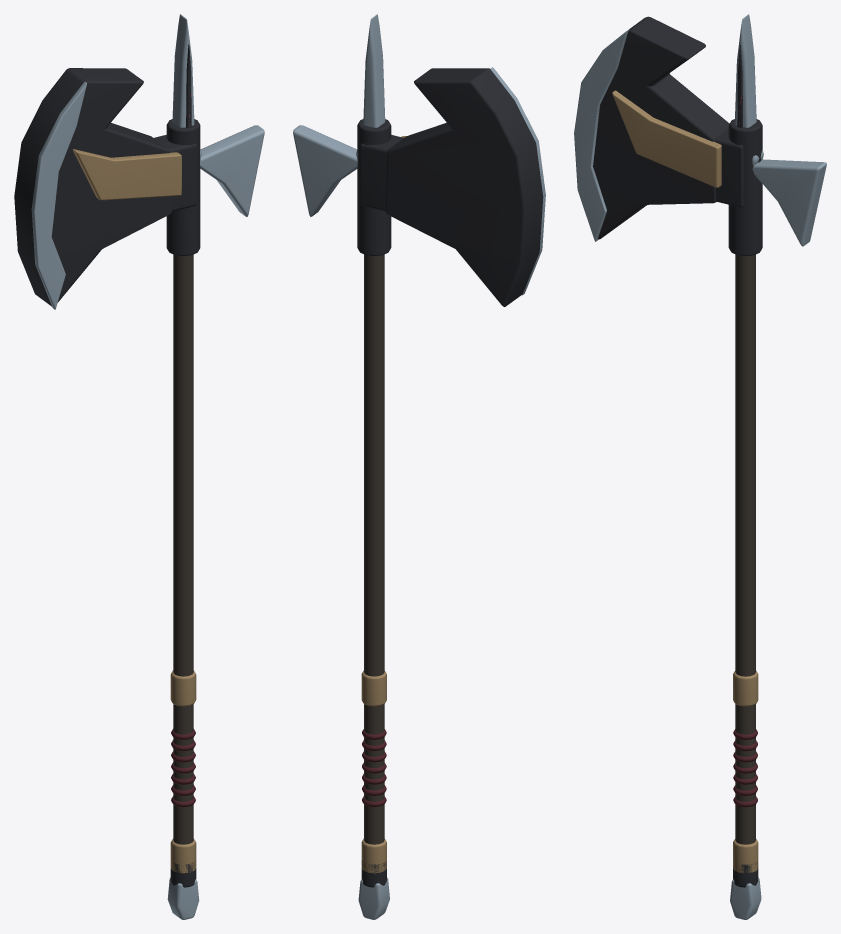
The model's file is execution-standard.glb.
3 renders of one model, left to right at view 1: azimuth 30°, elevation 25°; view 2: azimuth 150°, elevation 25°; view 3: azimuth 330°, elevation 25°, orthographic.
Visible parts, largest first — view 1: Halberd broken crescent, Walnut haft.003, Halberd honed crescent, Halberd ridge, Rear hook, Halberd armored socket, Spire forged blade.007, Halberd integral root web, Halberd octagonal heel, Brass ferrule.010, Brass ferrule.009; view 2: Halberd broken crescent, Walnut haft.003, Rear hook, Halberd armored socket, Spire forged blade.007, Halberd integral root web, Halberd octagonal heel, Halberd honed crescent, Brass ferrule.010, Brass ferrule.009; view 3: Halberd broken crescent, Walnut haft.003, Halberd ridge, Halberd honed crescent, Rear hook, Halberd armored socket, Spire forged blade.007, Halberd integral root web, Halberd octagonal heel, Brass ferrule.010, Brass ferrule.009.
Part boxes in pixels (<box>): Halberd broken crescent: <box>14,68,172,306</box>; Walnut haft.003: <box>173,254,193,844</box>; Halberd honed crescent: <box>31,82,86,309</box>; Halberd ridge: <box>72,149,181,200</box>; Rear hook: <box>200,125,264,216</box>; Halberd armored socket: <box>166,119,200,256</box>; Spire forged blade.007: <box>172,14,201,159</box>; Halberd integral root web: <box>154,135,197,211</box>; Halberd octagonal heel: <box>167,877,199,919</box>; Brass ferrule.010: <box>170,670,196,706</box>; Brass ferrule.009: <box>170,838,196,873</box>; Halberd broken crescent: <box>385,68,543,306</box>; Walnut haft.003: <box>364,254,384,844</box>; Rear hook: <box>293,125,357,216</box>; Halberd armored socket: <box>357,119,391,256</box>; Spire forged blade.007: <box>356,14,385,159</box>; Halberd integral root web: <box>360,135,403,211</box>; Halberd octagonal heel: <box>358,877,389,919</box>; Halberd honed crescent: <box>490,67,545,295</box>; Brass ferrule.010: <box>361,670,386,706</box>; Brass ferrule.009: <box>361,838,386,873</box>; Halberd broken crescent: <box>593,16,729,239</box>; Walnut haft.003: <box>735,254,755,844</box>; Halberd ridge: <box>612,90,721,187</box>; Halberd honed crescent: <box>574,29,629,241</box>; Rear hook: <box>752,159,826,246</box>; Halberd armored socket: <box>728,119,762,256</box>; Spire forged blade.007: <box>734,14,763,165</box>; Halberd integral root web: <box>715,129,743,207</box>; Halberd octagonal heel: <box>730,877,761,919</box>; Brass ferrule.010: <box>733,670,758,706</box>; Brass ferrule.009: <box>733,839,758,873</box>.
Size of the model in its own units: 0.6683 by 2.41 by 0.114.
